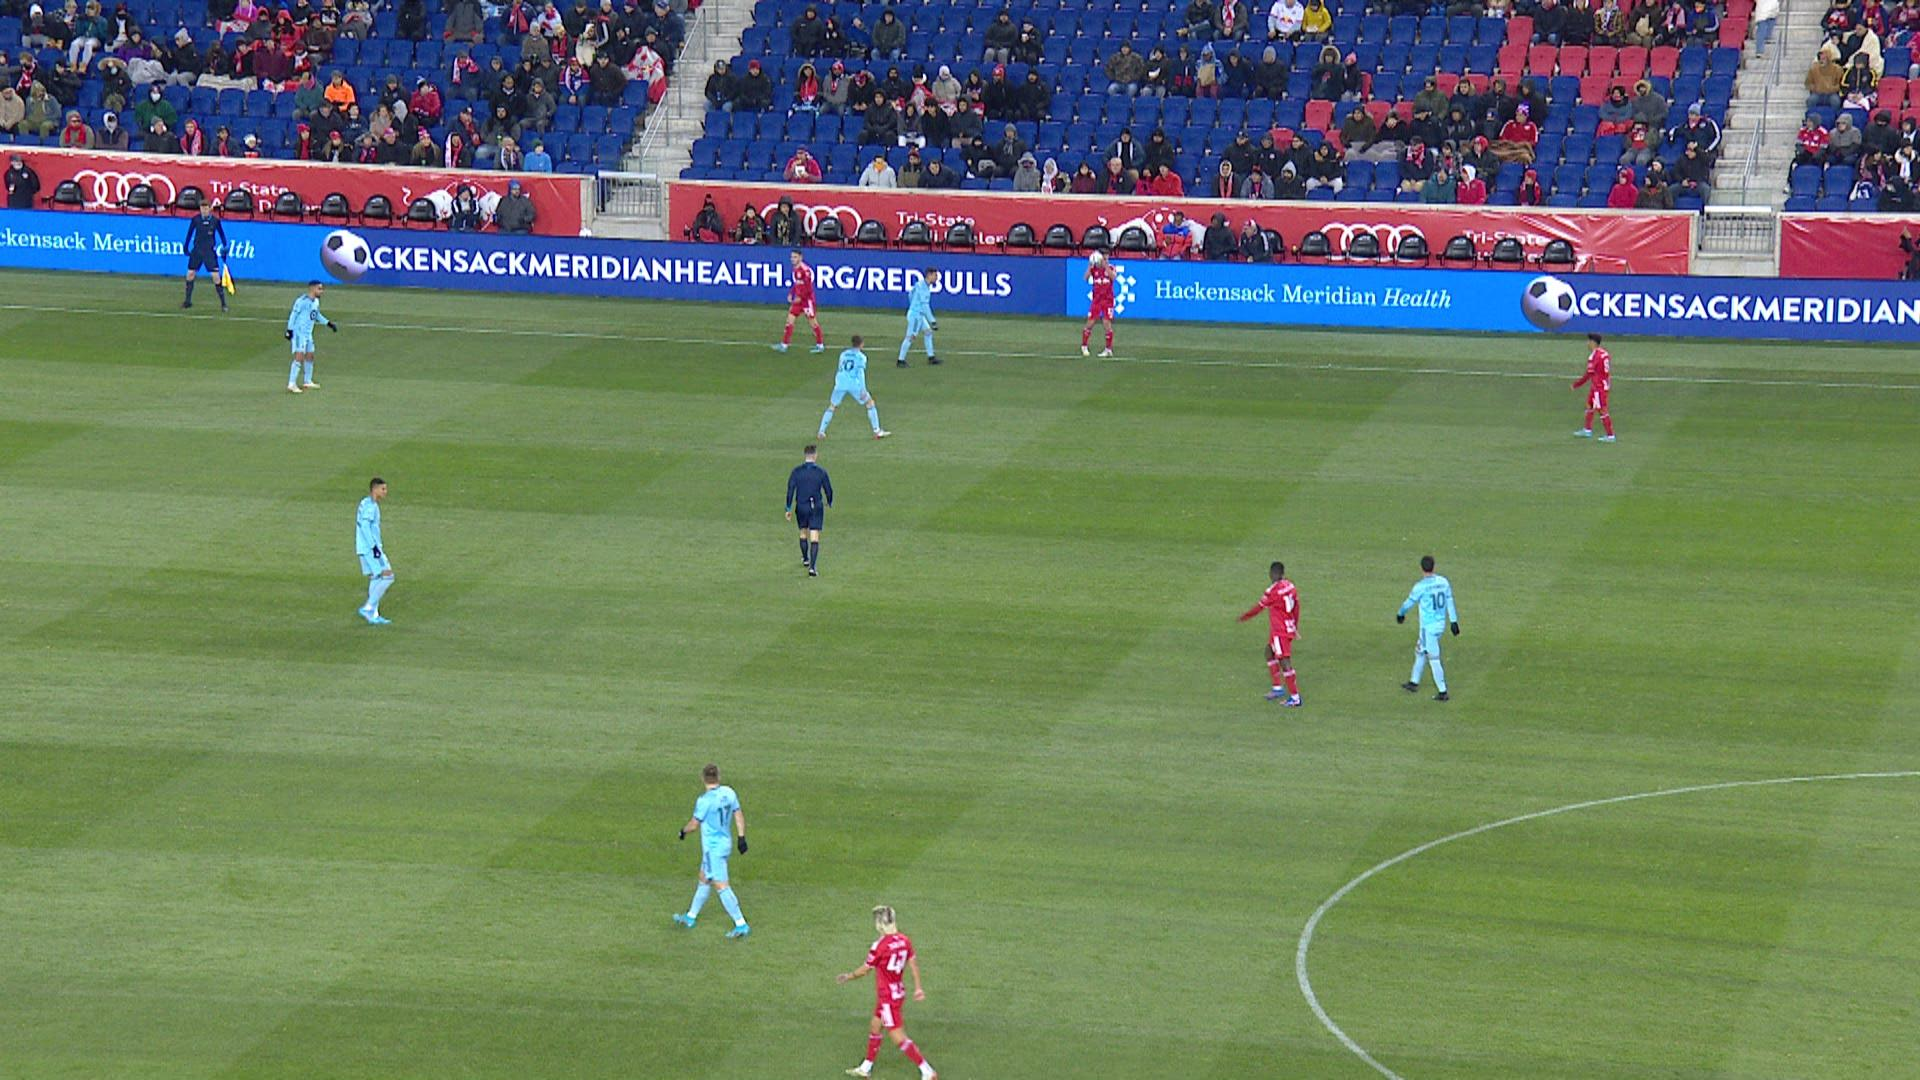football: (1090, 253, 1102, 263)
